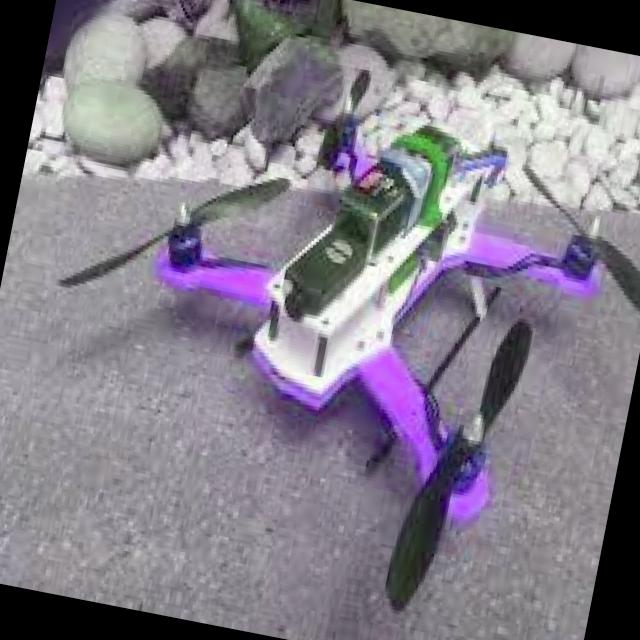drone: (43, 32, 640, 611)
